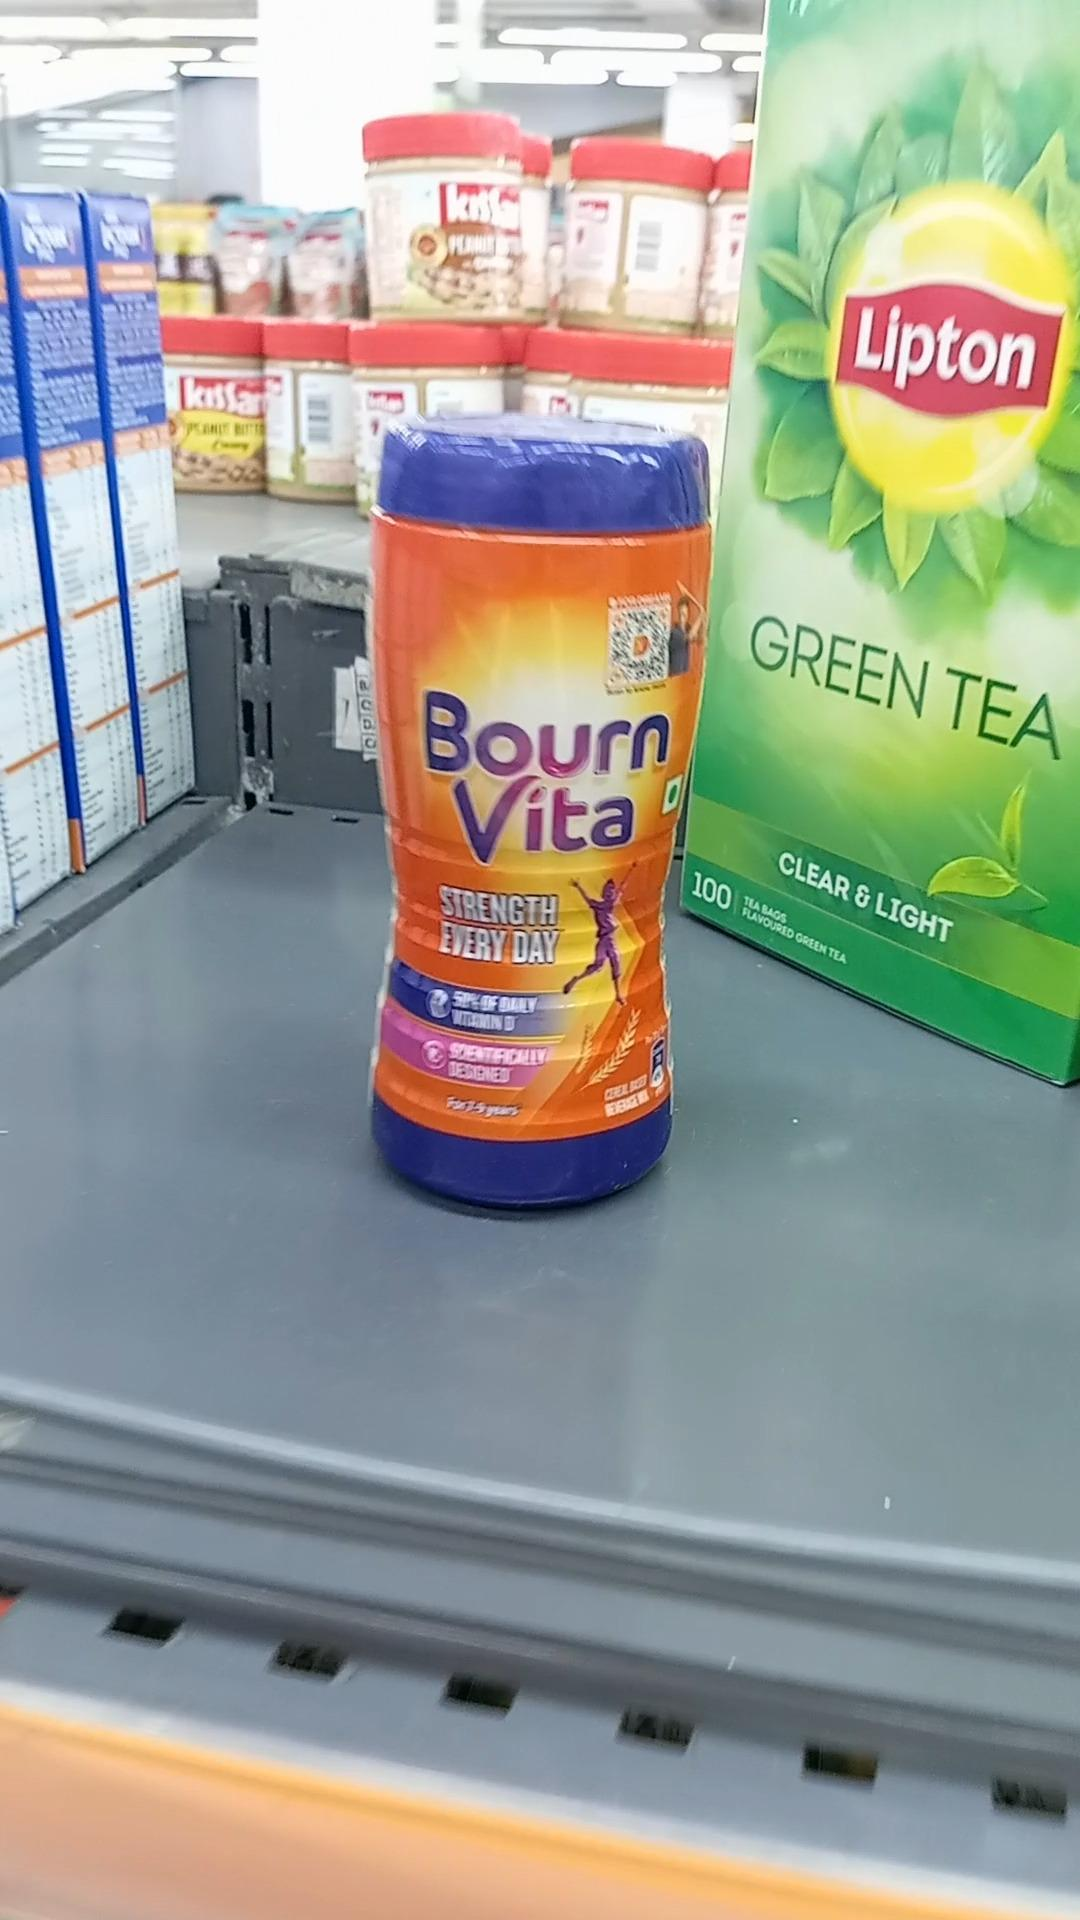BOURN_VITA_200_G_JAR: (348, 419, 703, 1229)
